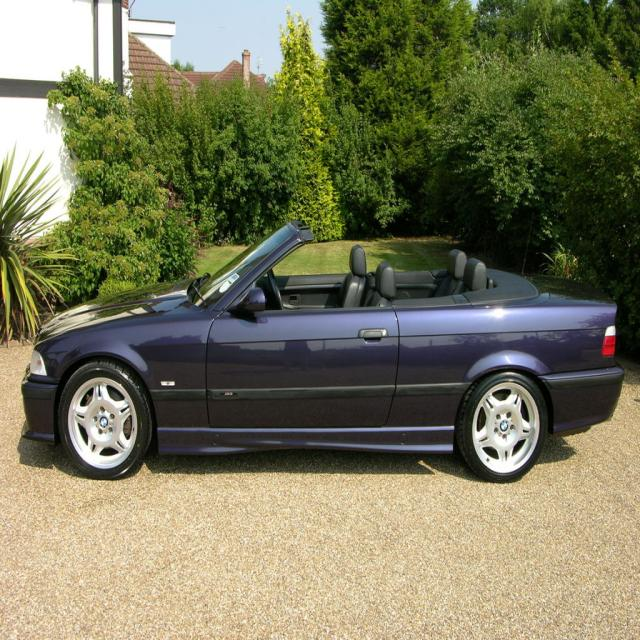car: (17, 214, 622, 485)
